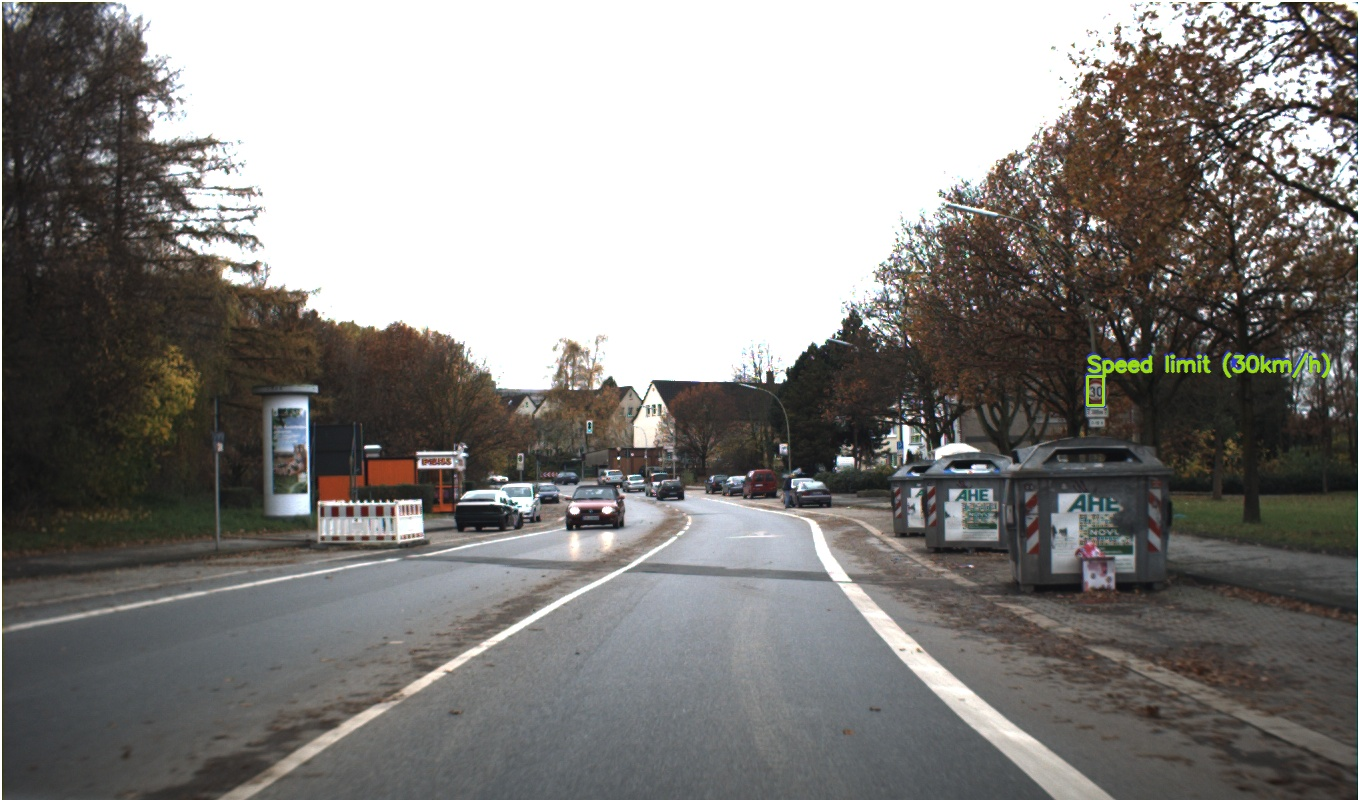Speed limit (30km/h): (856, 268, 924, 334)
